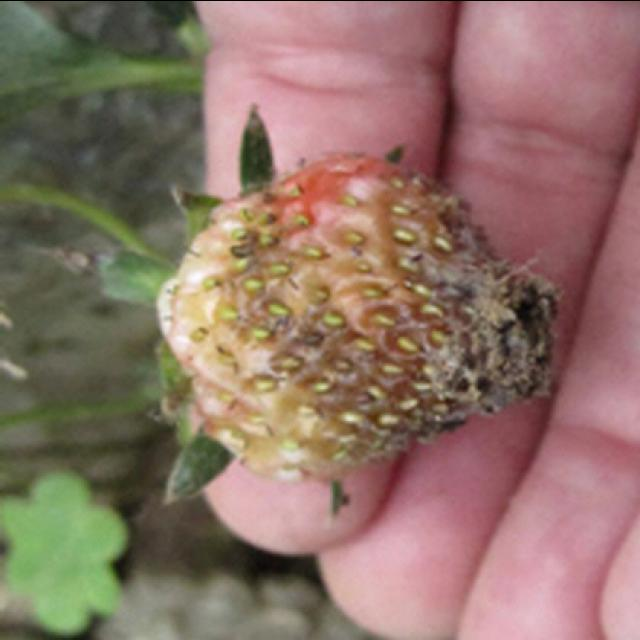Gray Mold: (154, 146, 562, 499)
